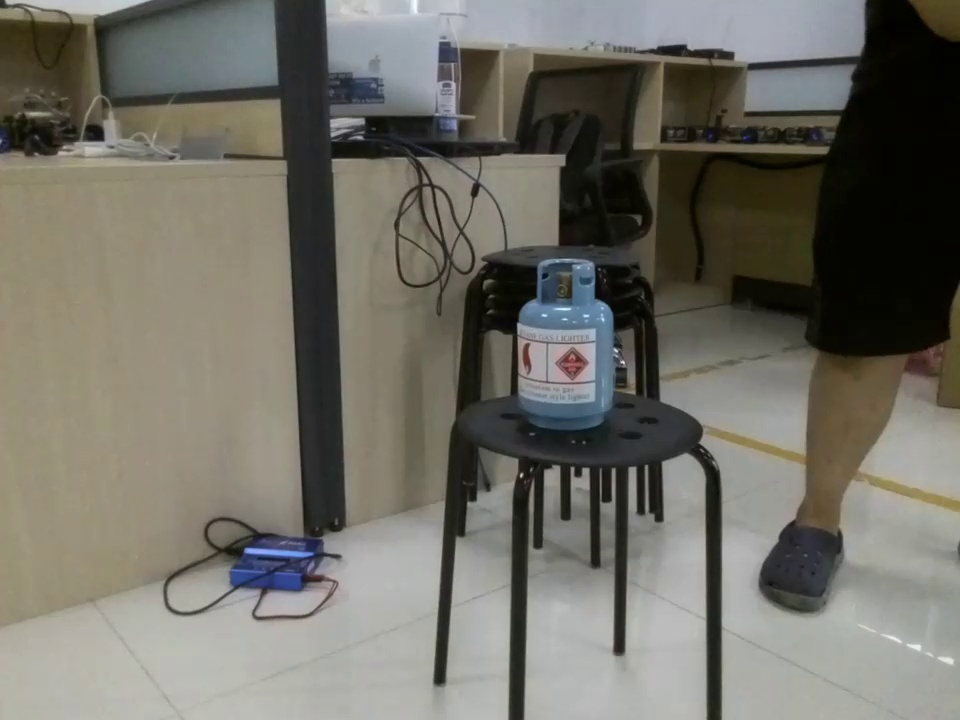gas tank: (508, 256, 625, 435)
